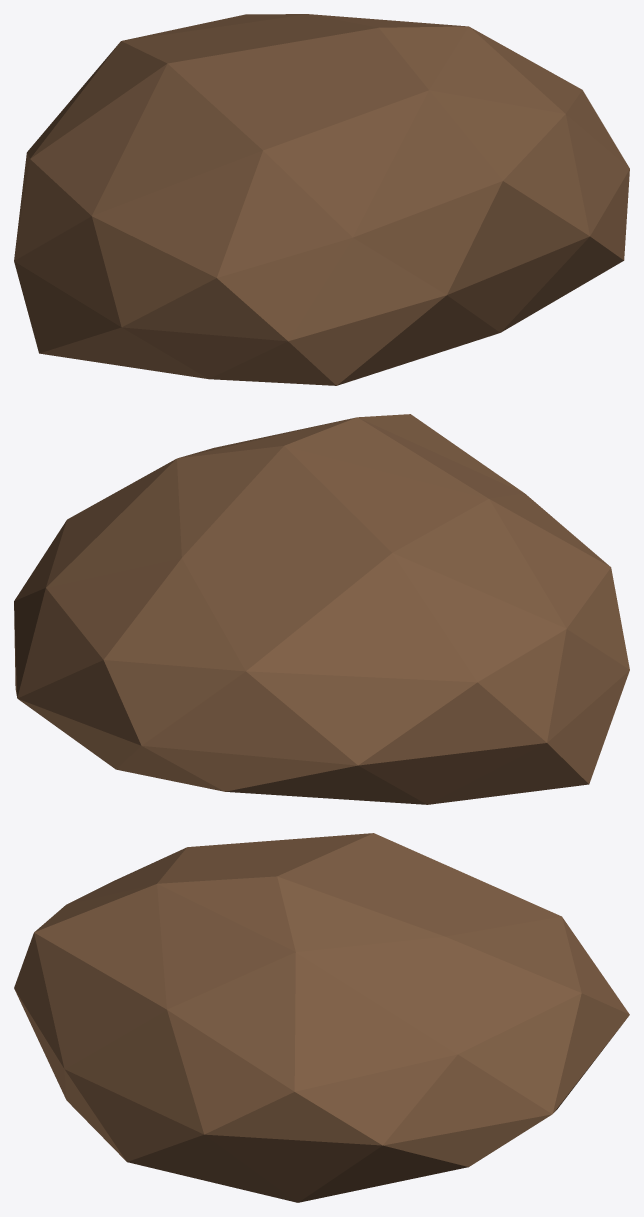
The model's file is m_rock_lightest.glb.
3 renders of one model, top to bottom at view 1: azimuth 30°, elevation 25°; view 2: azimuth 150°, elevation 25°; view 3: azimuth 270°, elevation 25°, orthographic. The views are drawn at different scales.
Parts seen in each view (by area): view 1: Icosphere; view 2: Icosphere; view 3: Icosphere.
Boxes of the visible parts, x1=… form: Icosphere: x1=14, y1=14, x2=629, y2=385; Icosphere: x1=14, y1=414, x2=629, y2=804; Icosphere: x1=14, y1=833, x2=629, y2=1202.
Size of the model in its own units: 1.69 by 0.9124 by 1.72.
1 material, 1 textured.
